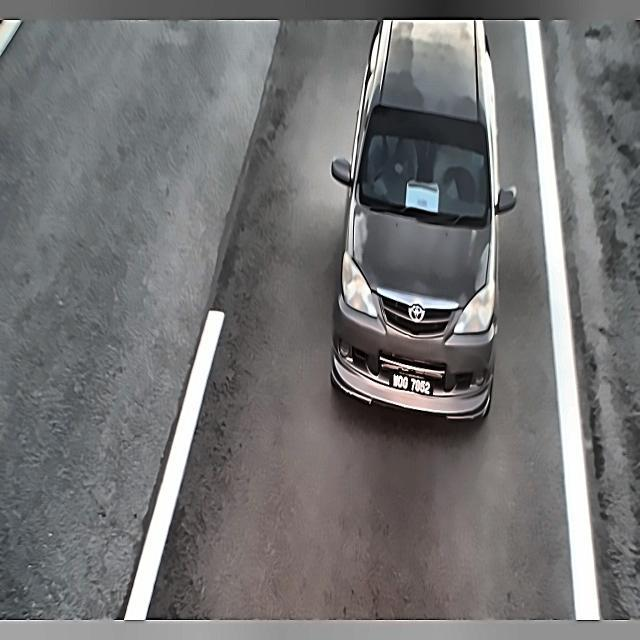car: (386, 366, 442, 403)
